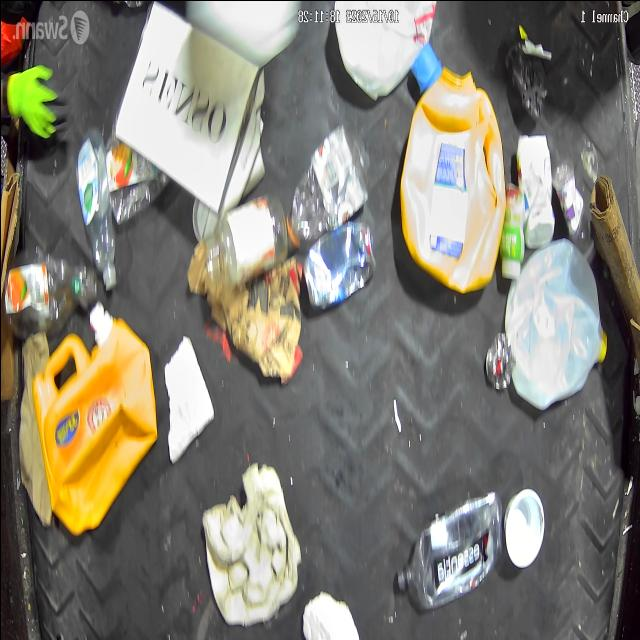can: (300, 218, 376, 298)
non_white_jug: (36, 299, 156, 535), (397, 70, 504, 288), (504, 243, 602, 405)
plastic_bottle: (396, 492, 502, 602), (284, 127, 369, 243), (5, 248, 93, 332), (74, 124, 116, 294)
